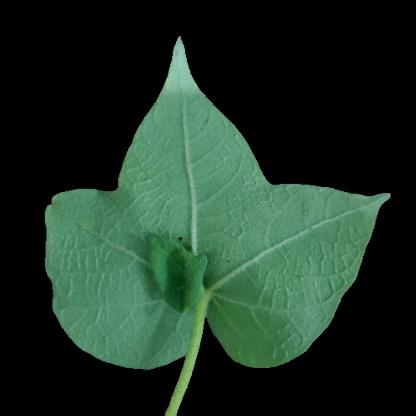curl_stage2: (231, 199, 356, 291), (58, 187, 134, 317), (141, 122, 228, 219), (224, 290, 324, 355)
leaf_enation: (139, 219, 221, 317)
